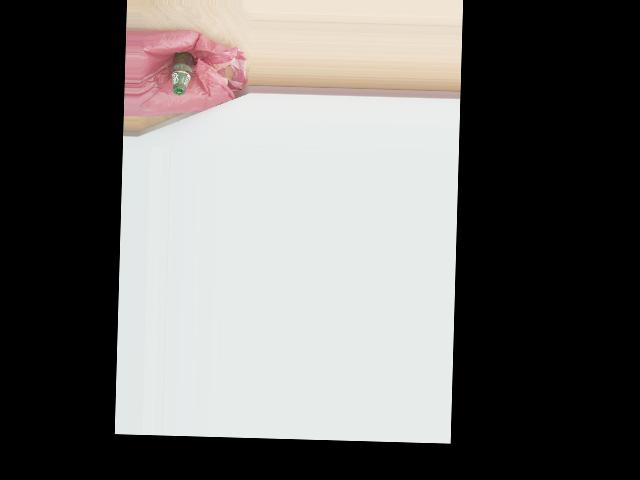beer: (168, 51, 194, 95)
